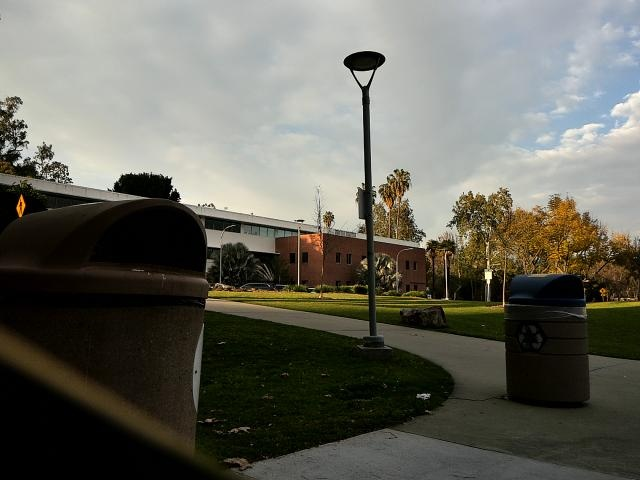trashcan: (1, 184, 214, 467), (494, 258, 600, 409)
